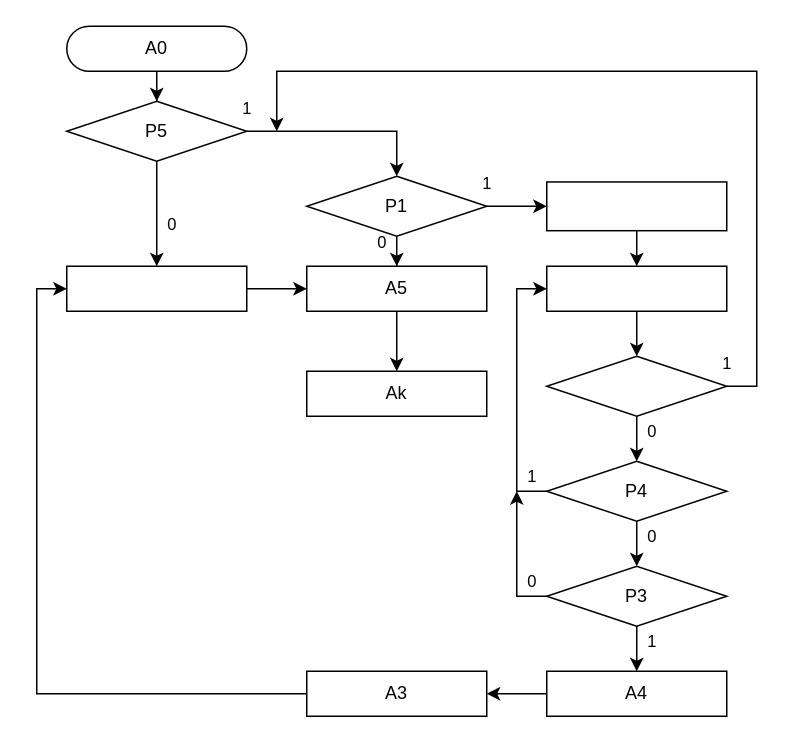
The diagram is 795 pixels wide and 743 high, and some of its shapes have lost their labels. Each missing label, with the centre of its shape:
"A1" belongs at pixel 636 205.
"A2" belongs at pixel 636 288.
"A6" belongs at pixel 156 288.
"P2" belongs at pixel 636 385.
